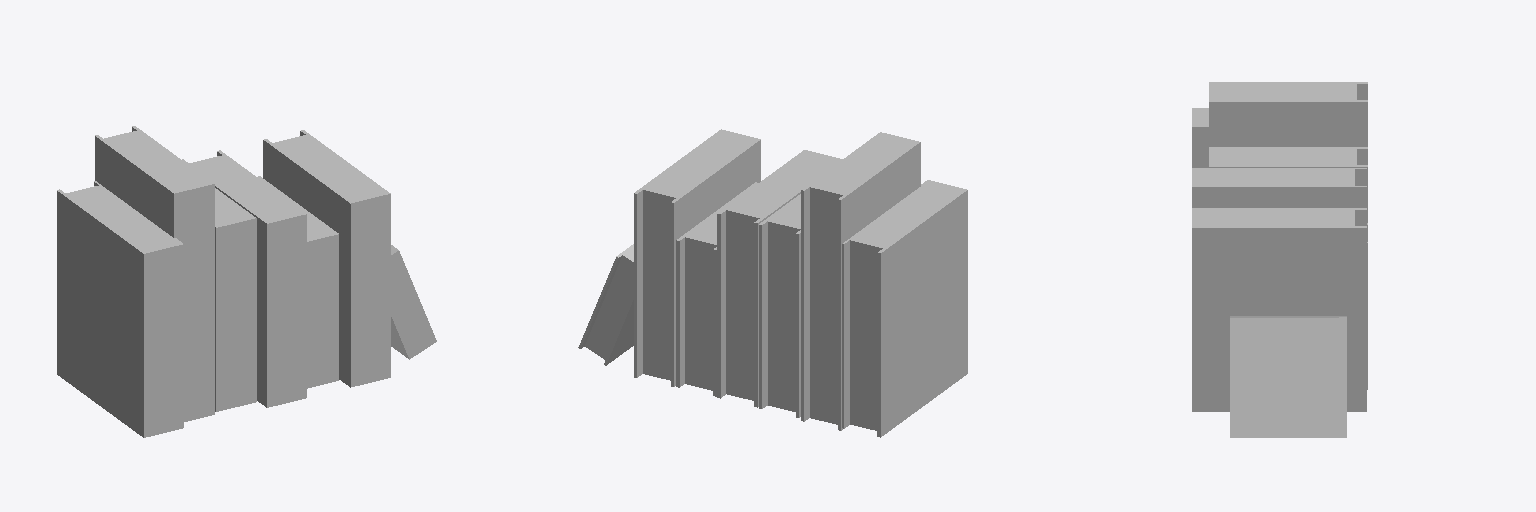
Rendered from Books_Row.obj.
3 views of the same model, side by side, from view 1: azimuth 30°, elevation 25°; view 2: azimuth 150°, elevation 25°; view 3: azimuth 270°, elevation 25° (orthographic).
Visible parts, largest first — view 1: Cube.005, Cube.003, Cube.004, Cube.001, Cube, Cube.002, Cube.006; view 2: Cube.005, Cube.004, Cube.003, Cube.001, Cube, Cube.002, Cube.006; view 3: Cube.003, Cube.006, Cube.004, Cube.001, Cube, Cube.005.
Part boxes in pixels (x1,y1,x2,y2): Cube.005: (57, 181, 183, 437); Cube.003: (263, 130, 390, 387); Cube.004: (95, 126, 214, 421); Cube.001: (182, 150, 306, 407); Cube: (215, 188, 256, 411); Cube.002: (258, 176, 338, 388); Cube.006: (391, 245, 436, 359); Cube.005: (842, 180, 967, 437); Cube.004: (801, 132, 920, 430); Cube.003: (634, 129, 760, 386); Cube.001: (717, 150, 842, 407); Cube: (759, 194, 800, 417); Cube.002: (676, 182, 757, 396); Cube.006: (578, 244, 633, 365); Cube.003: (1192, 208, 1366, 411); Cube.006: (1230, 316, 1346, 437); Cube.004: (1209, 82, 1367, 146); Cube.001: (1192, 168, 1366, 207); Cube: (1209, 147, 1367, 222); Cube.005: (1192, 108, 1208, 167).
Bounding box in the file's own units: 4.54 × 3.25 × 2.21.